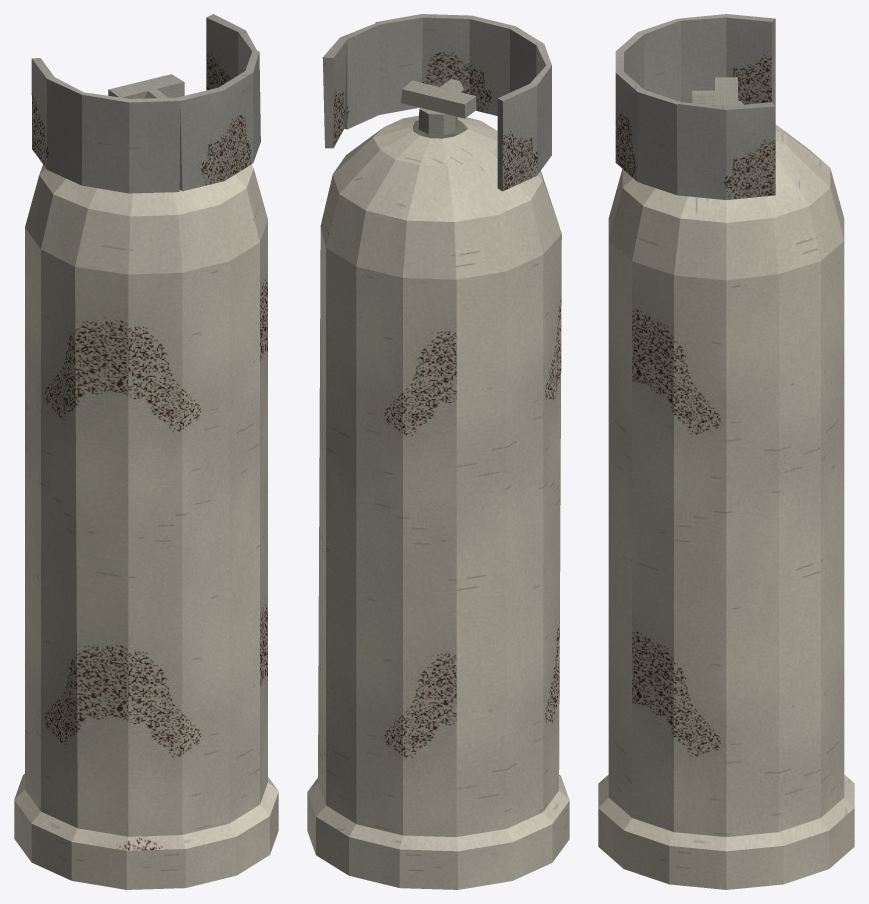
File: propane_v2.glb
3 views of the same model, side by side, from view 1: azimuth 30°, elevation 25°; view 2: azimuth 150°, elevation 25°; view 3: azimuth 270°, elevation 25° (orthographic).
Parts seen in each view (by area): view 1: Variant_propane_2; view 2: Variant_propane_2; view 3: Variant_propane_2.
Boxes of the visible parts, bbox=[...] form: Variant_propane_2: bbox=[14, 14, 278, 889]; Variant_propane_2: bbox=[307, 14, 569, 889]; Variant_propane_2: bbox=[598, 14, 854, 889].
Size of the model in its own units: 0.37 by 1.2 by 0.3607.
Materials: 3 (3 with a texture image).
